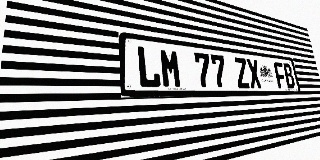7: (193, 52, 213, 88), (209, 54, 229, 88)
B: (282, 63, 296, 88)
F: (273, 62, 287, 88)
L: (136, 45, 161, 88)
M: (159, 48, 183, 88)
X: (246, 59, 262, 88)
Z: (233, 57, 251, 88)
